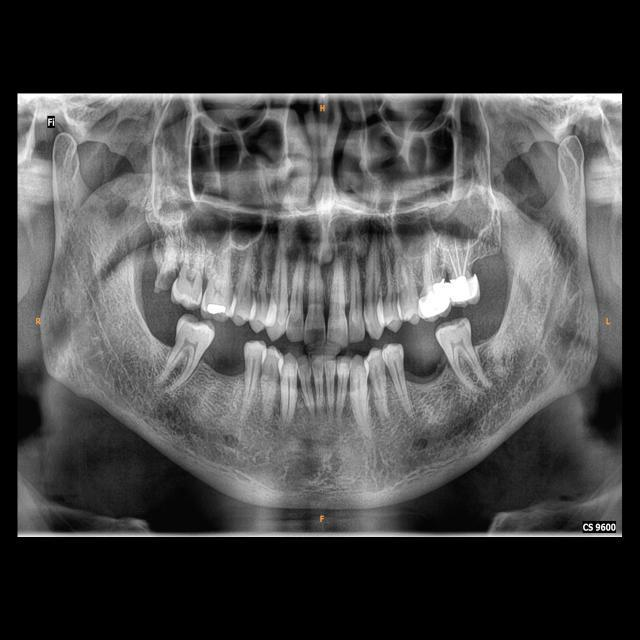dentin-curugu: (155, 267, 180, 290), (305, 326, 327, 346)
dolgu: (204, 300, 228, 321)
kanal-tedavisi: (448, 236, 470, 274)
kaplama: (419, 283, 450, 315), (448, 277, 481, 302)
